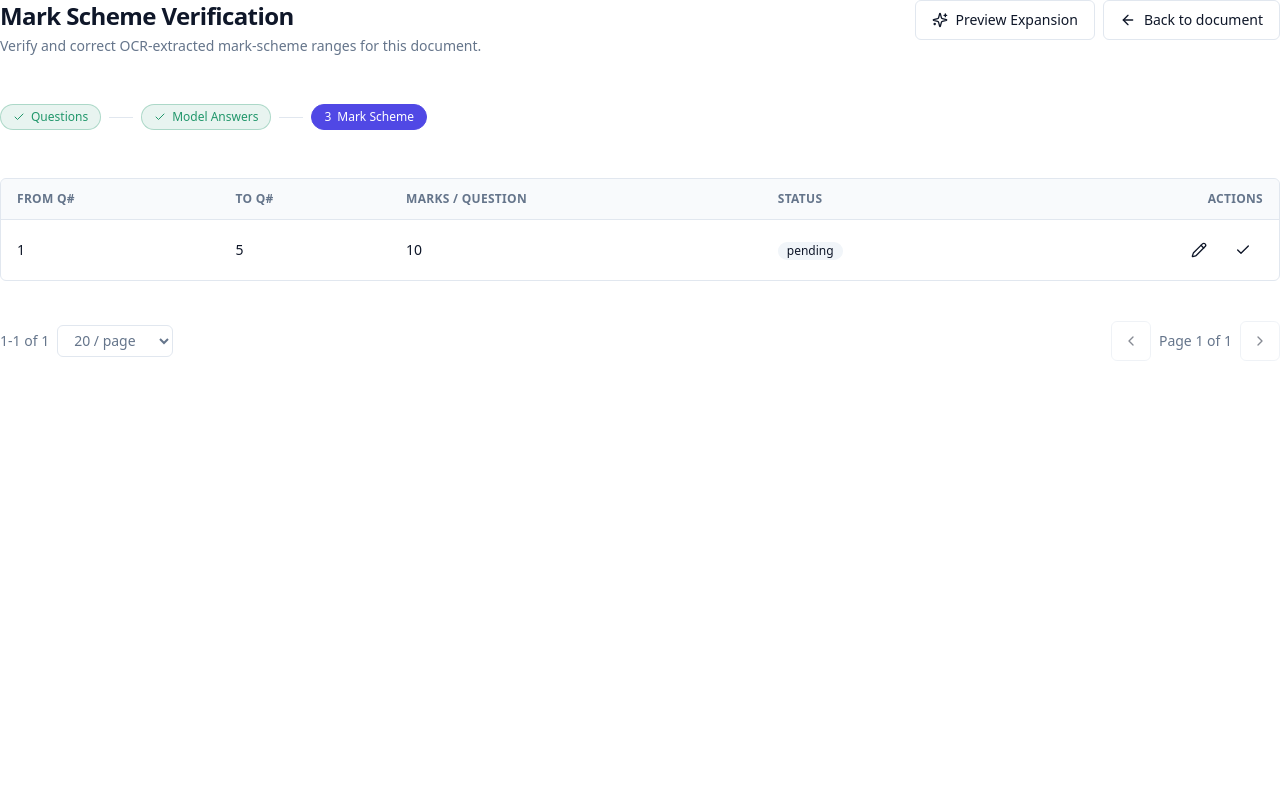
Test: MarkSchemeVerificationPage › edits a mark scheme range via the form dialog
expect the text "pending" is shown: met, box [778,242,843,260]
Click the button named "Edit range 1-5": point(1199, 250) [1179,230,1219,270]
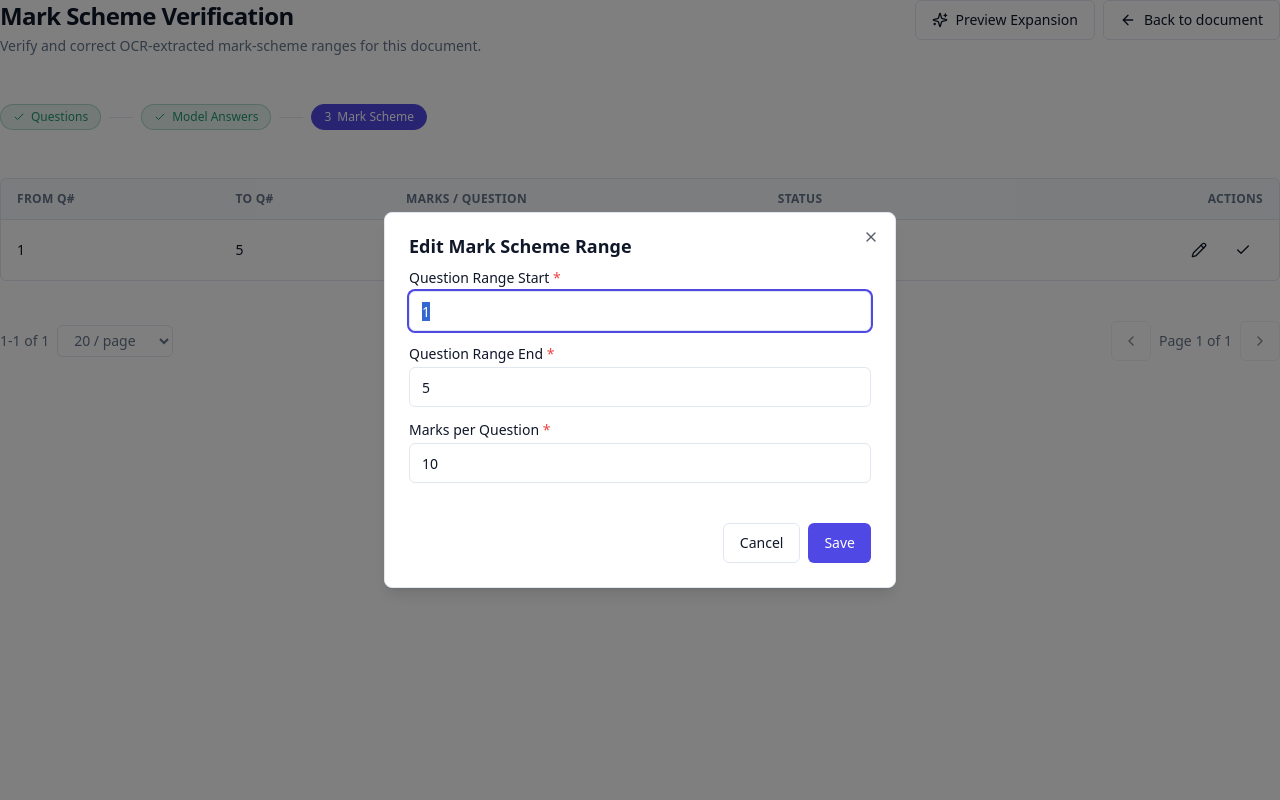
Replace the text in the number field labelled "Marks per Question *" with "12": point(640, 463) [409,443,871,483]
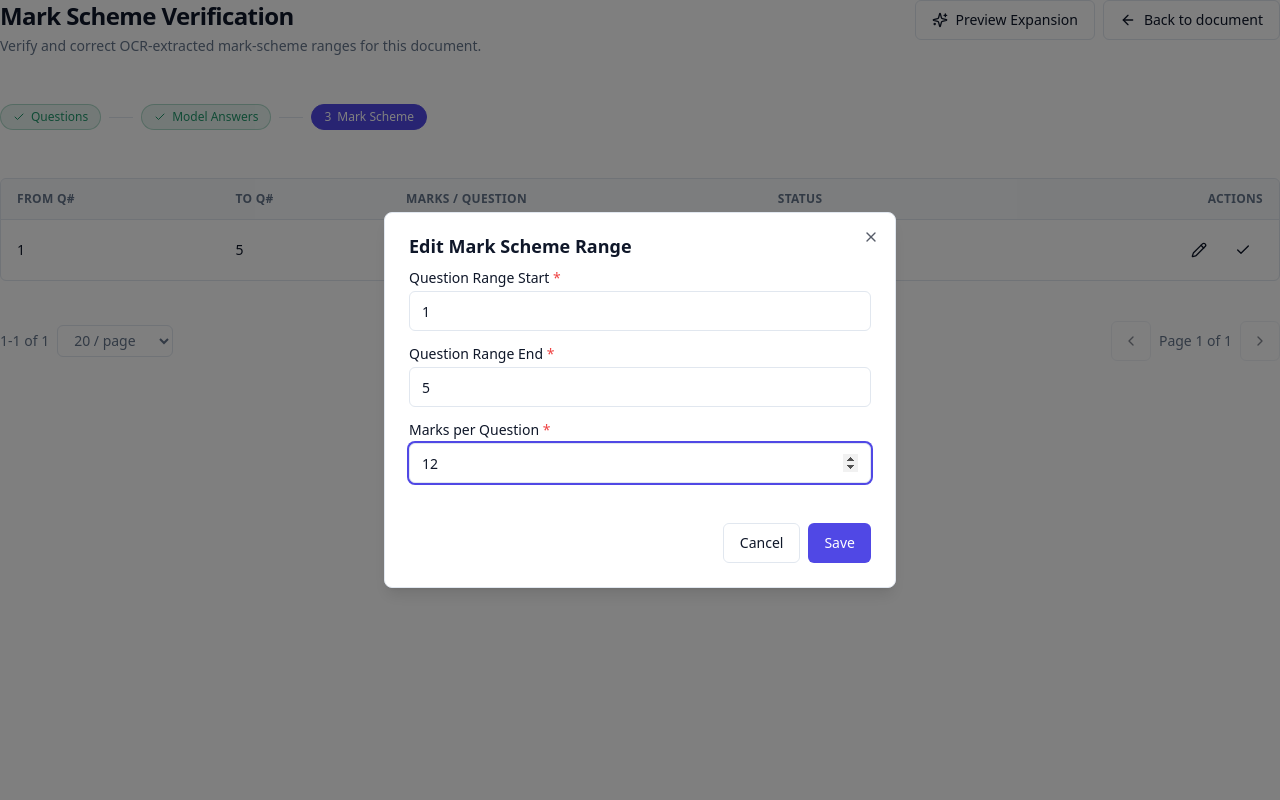
Click the button "Save": point(840, 543) [808,523,871,563]
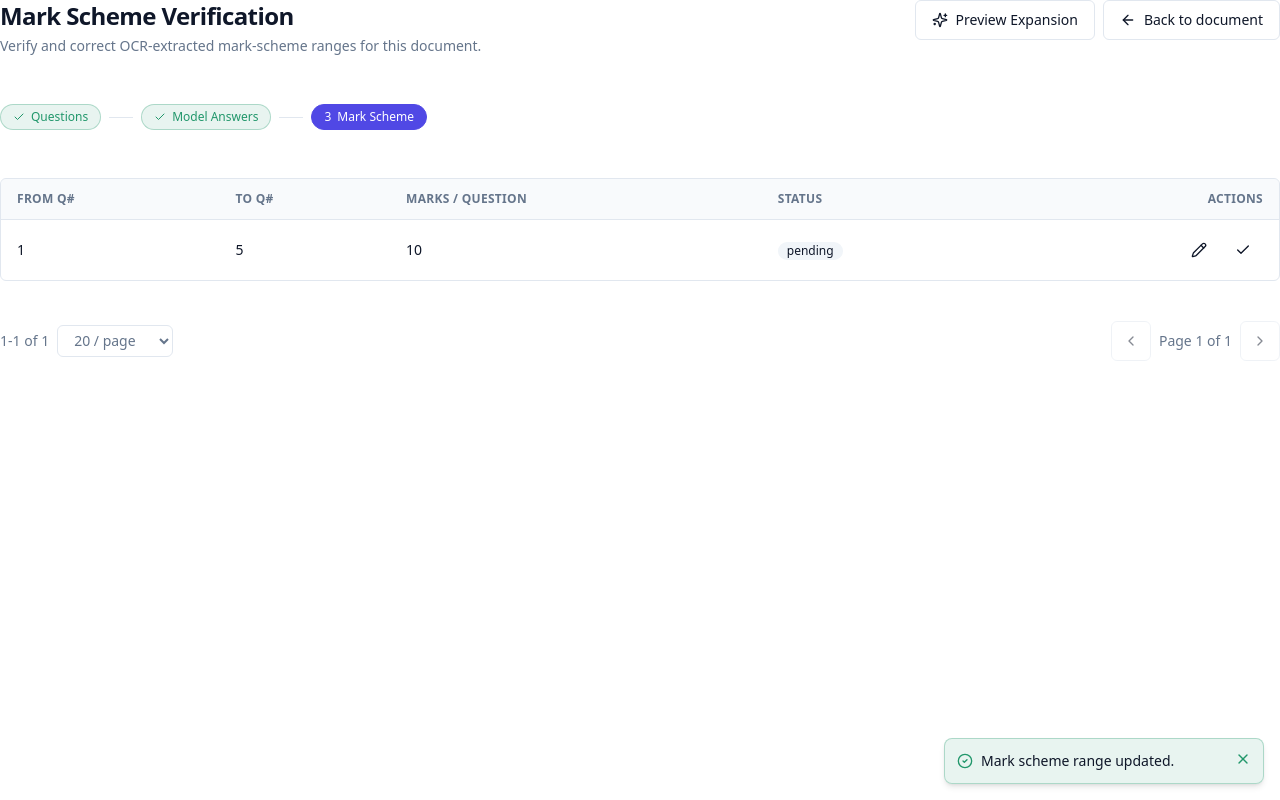
expect the text "Mark scheme range updated." is shown: met, box [981,751,1174,770]
